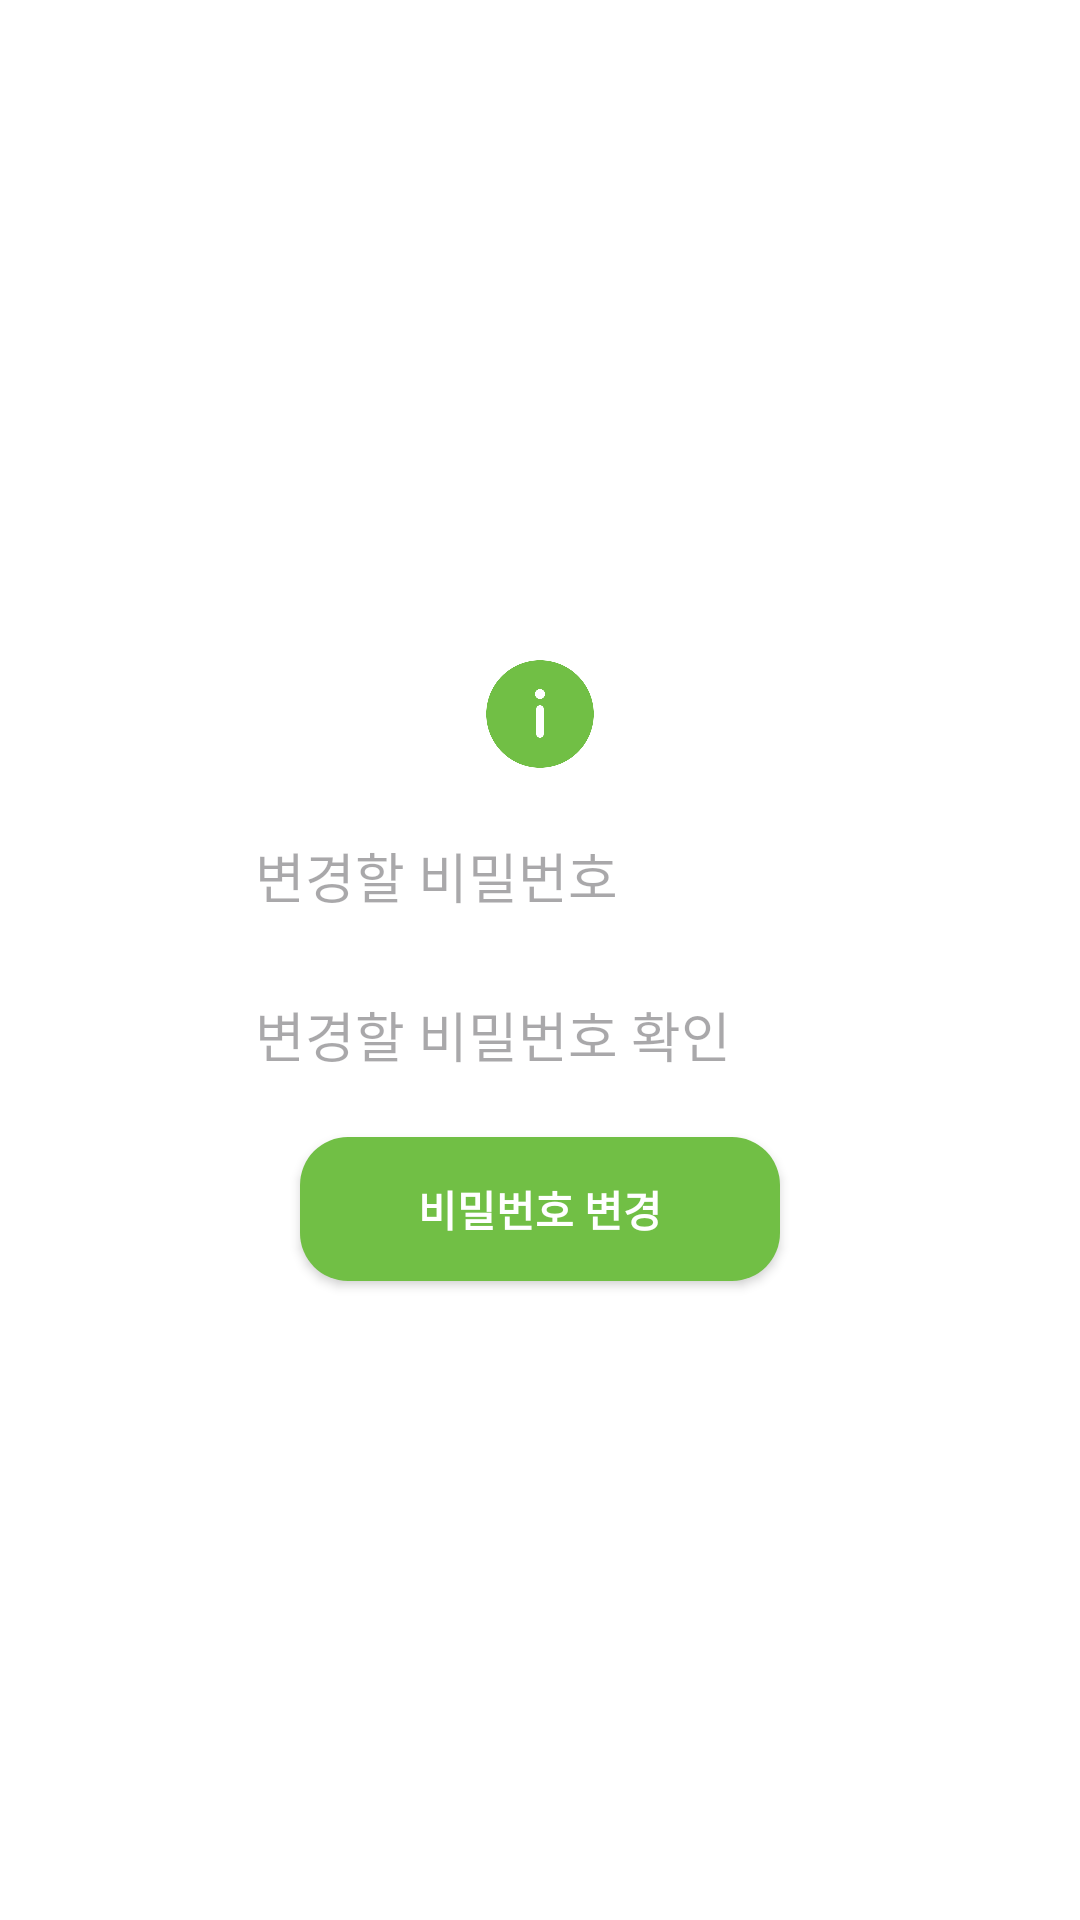

Where to tap for icons on this 1080w x 1920h app screen, as (x,y):
information: (540,714)
